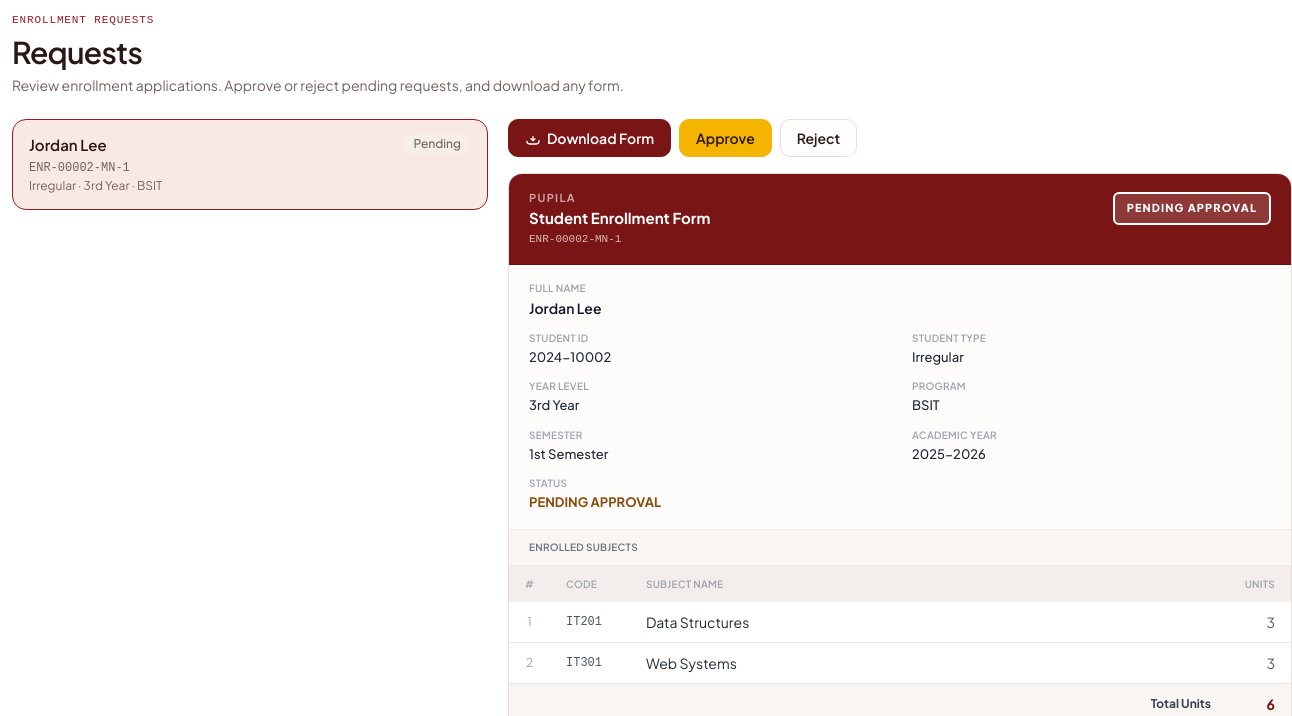
Scenario: RequestsPage — staff user › shows inline success feedback after rejecting
Click the button with test id "reject-btn".
click(819, 138)  # box [780,119,857,157]
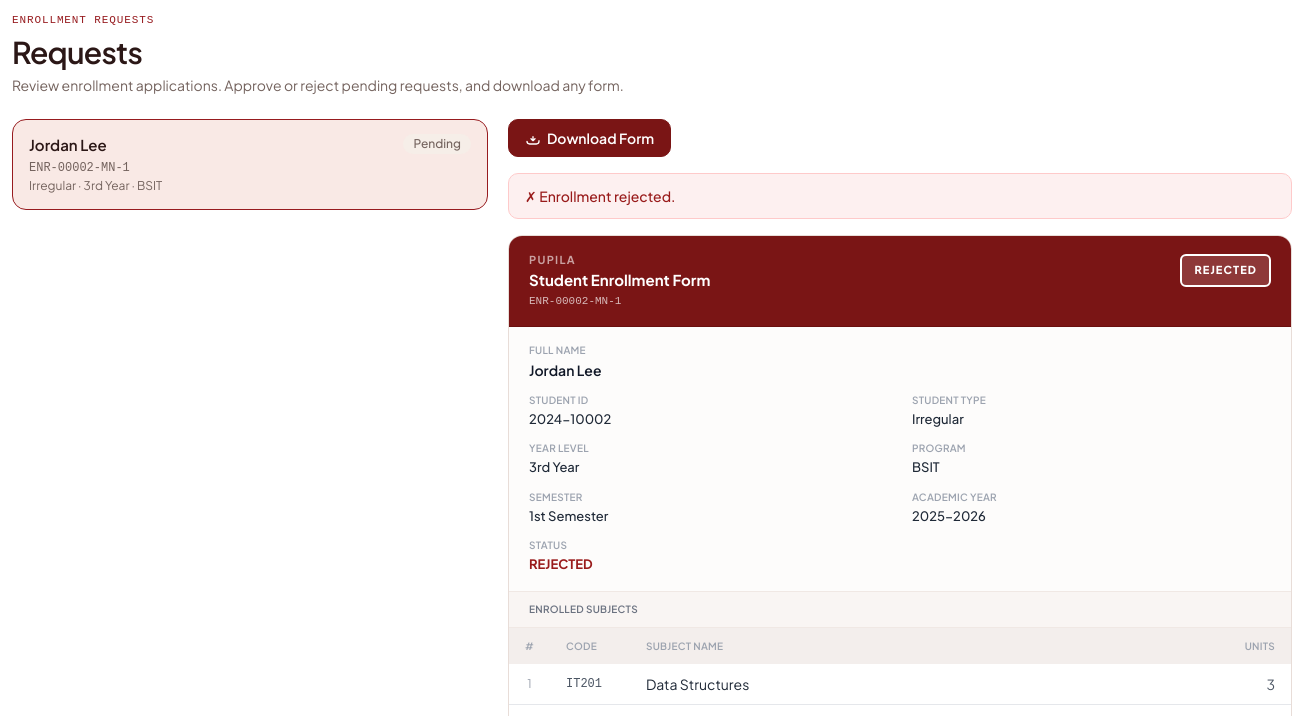
Expected: the text "✗ Enrollment rejected." is shown, [508,173,1291,219]
Expected: the text with test id "action-success" shows "Enrollment rejected.", [525,187,676,205]
